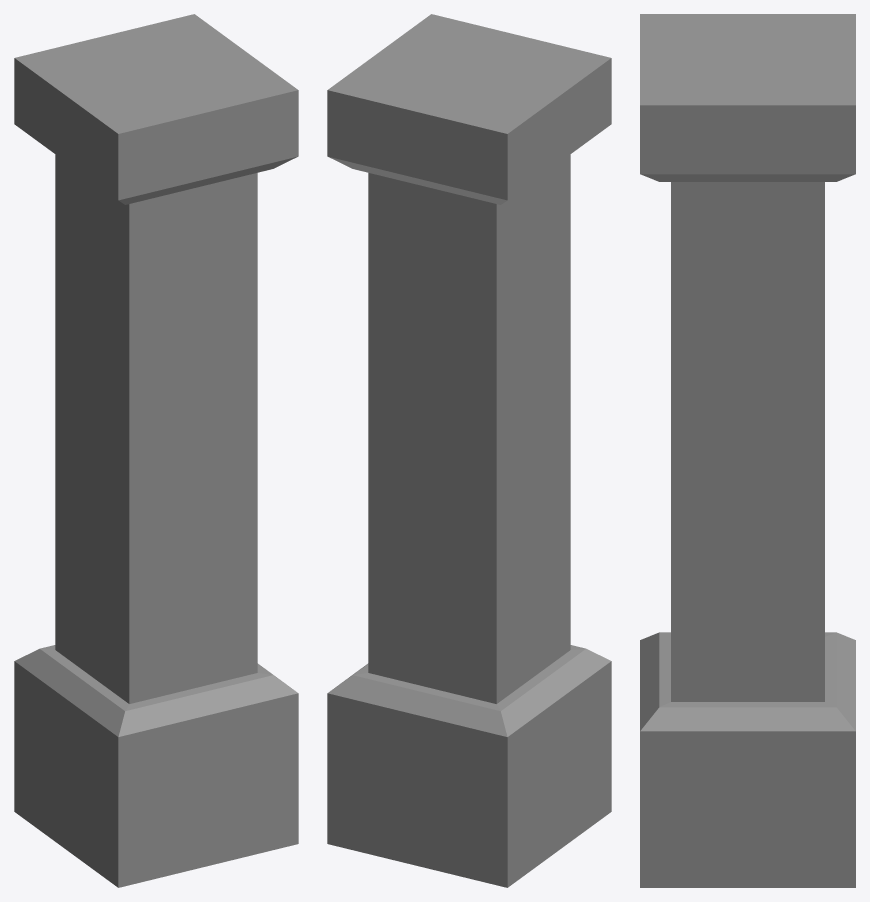
Rendered from colonne1.FBX.
3 renders of one model, left to right at view 1: azimuth 30°, elevation 25°; view 2: azimuth 150°, elevation 25°; view 3: azimuth 270°, elevation 25°, orthographic. The views are drawn at different scales.
Visible parts, largest first — view 1: poto1; view 2: poto1; view 3: poto1.
Boxes of the visible parts, left/top/right/bottom form: poto1: left=14, top=14, right=298, bottom=887; poto1: left=327, top=14, right=611, bottom=887; poto1: left=640, top=14, right=855, bottom=887.
Bounding box in the file's own units: 25 × 100 × 25.
1 material, 1 textured.
